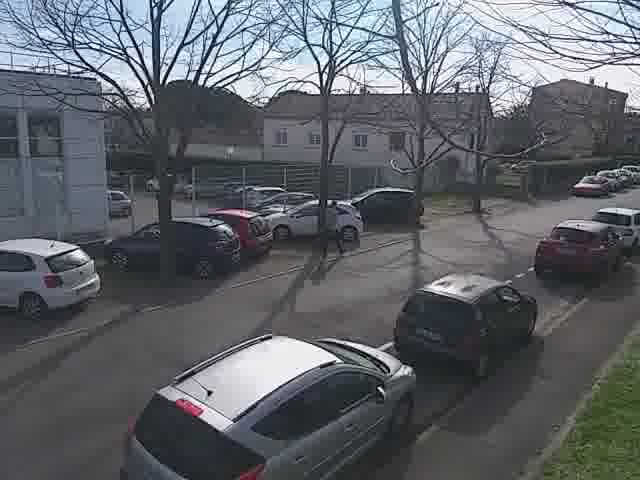persona: (316, 192, 346, 263)
